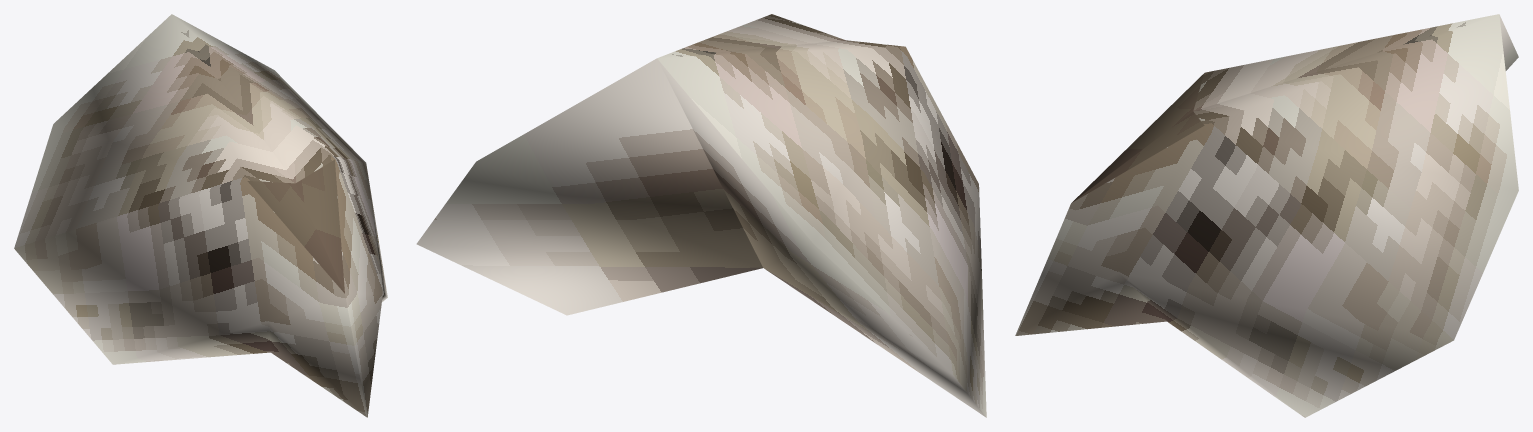
Rendered from thm_dant_thune_skull_l4.fbx.
The picture shows the model from 3 angles, left to right: view 1: azimuth 30°, elevation 25°; view 2: azimuth 150°, elevation 25°; view 3: azimuth 270°, elevation 25°; orthographic projection. The views are drawn at different scales.
Visible parts, largest first — view 1: mesh_node; view 2: mesh_node; view 3: mesh_node.
Part boxes in pixels (x1=…): mesh_node: x1=14, y1=14, x2=387, y2=417; mesh_node: x1=416, y1=14, x2=986, y2=417; mesh_node: x1=1015, y1=14, x2=1518, y2=417.
Bounding box in the file's own units: 1.84 × 1.3 × 1.85.
Materials: 1 (1 with a texture image).
